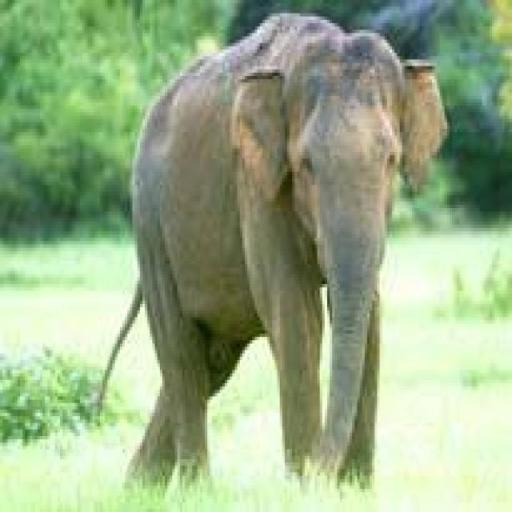Elephant: (92, 10, 447, 492)
